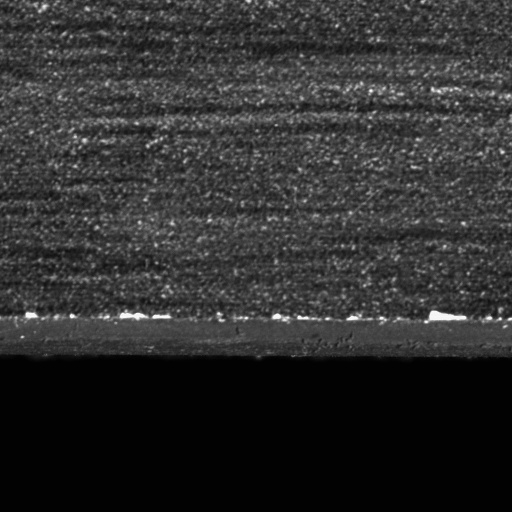huashang: (426, 310, 467, 322), (118, 311, 172, 320)
